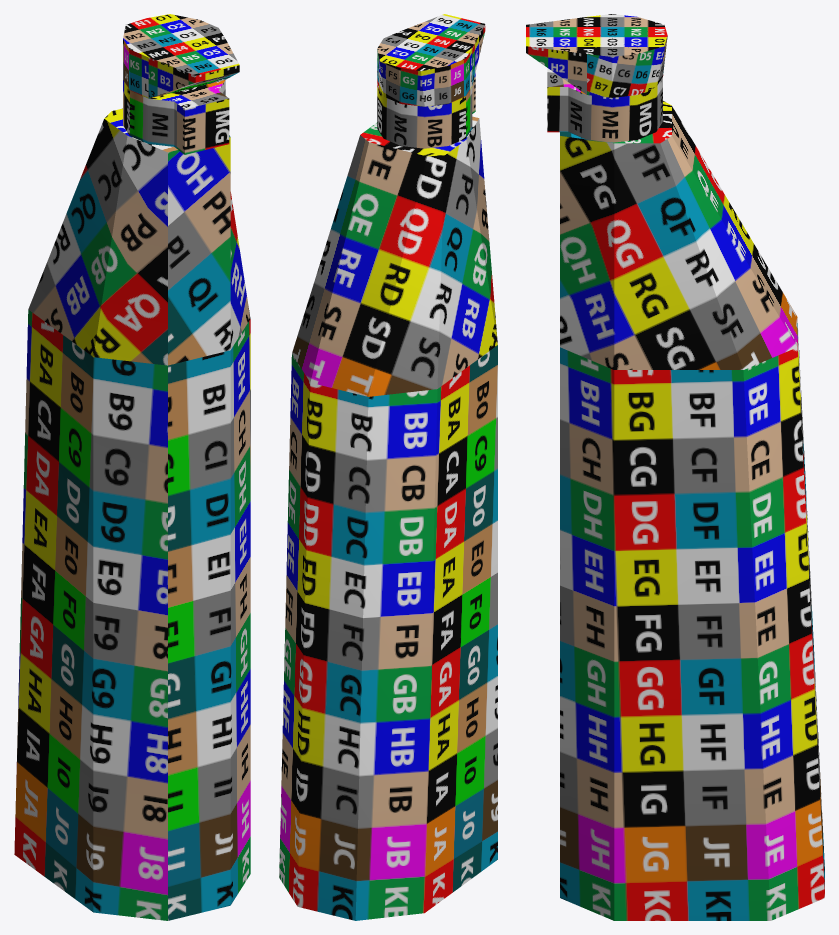
The model's file is cleaningsupply1.FBX.
3 views of the same model, side by side, from view 1: azimuth 30°, elevation 25°; view 2: azimuth 150°, elevation 25°; view 3: azimuth 270°, elevation 25° (orthographic). The views are drawn at different scales.
Visible parts, largest first — view 1: cleaningsupply1; view 2: cleaningsupply1; view 3: cleaningsupply1.
Part boxes in pixels (x1,y1,x2,y2): cleaningsupply1: [14, 14, 250, 920]; cleaningsupply1: [279, 14, 497, 920]; cleaningsupply1: [526, 14, 824, 920].
Bounding box in the file's own units: 0.1327 × 0.6904 × 0.2205.
1 material, 1 textured.
